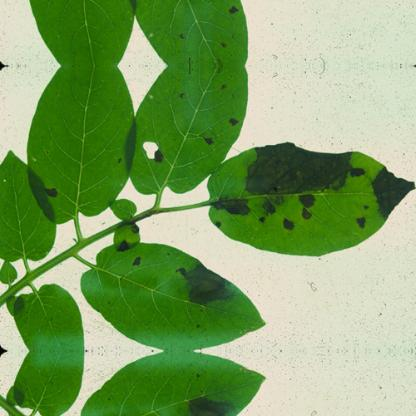Early-Blight: (198, 145, 416, 256), (78, 235, 276, 349), (126, 66, 250, 194), (78, 351, 275, 416), (125, 0, 250, 64), (102, 188, 160, 256)
